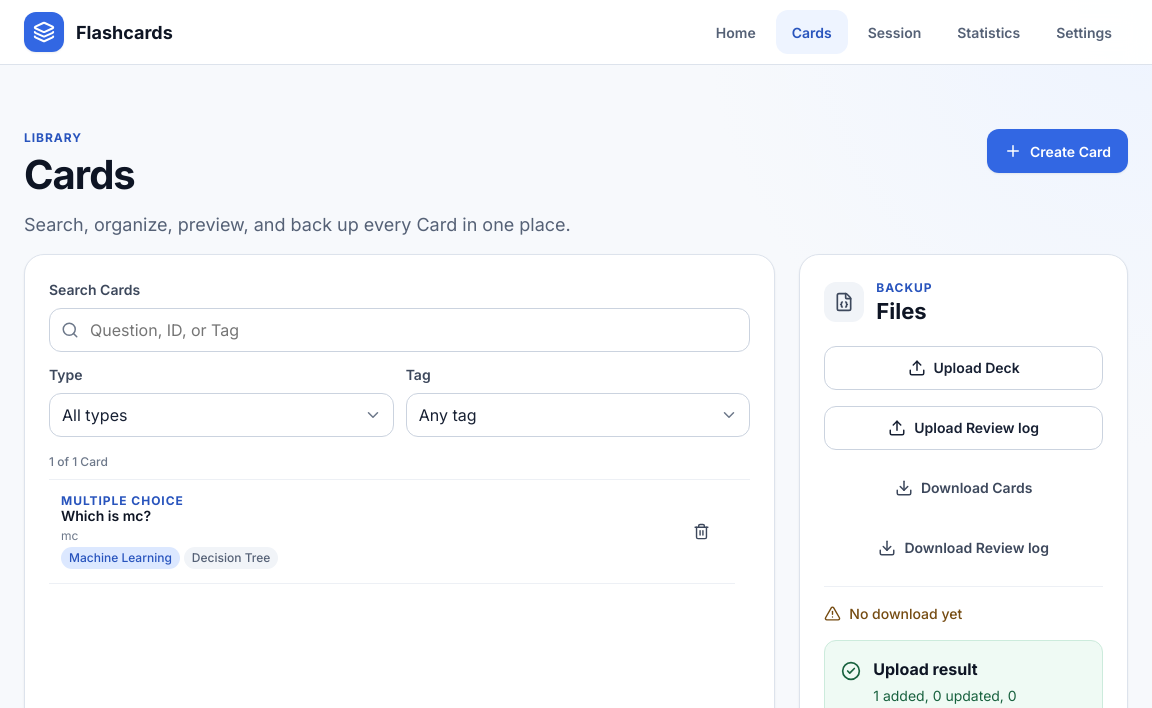
it: shows right or wrong after a click on an option (multiple_choice, wrong)
Earlier steps of the test are not shown.
Later steps or results of the test are not shown.
Click the button "Home": click(736, 32) [700,10,772,54]
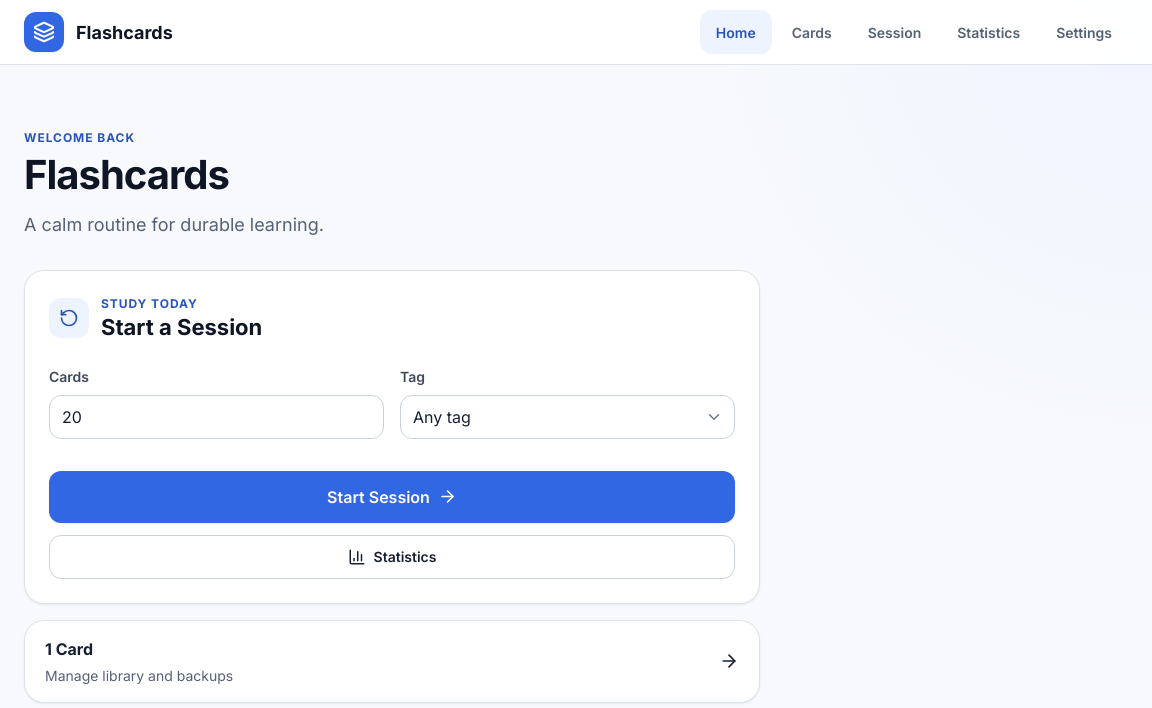
Click the button "Start Session": click(392, 497) [49,471,735,523]
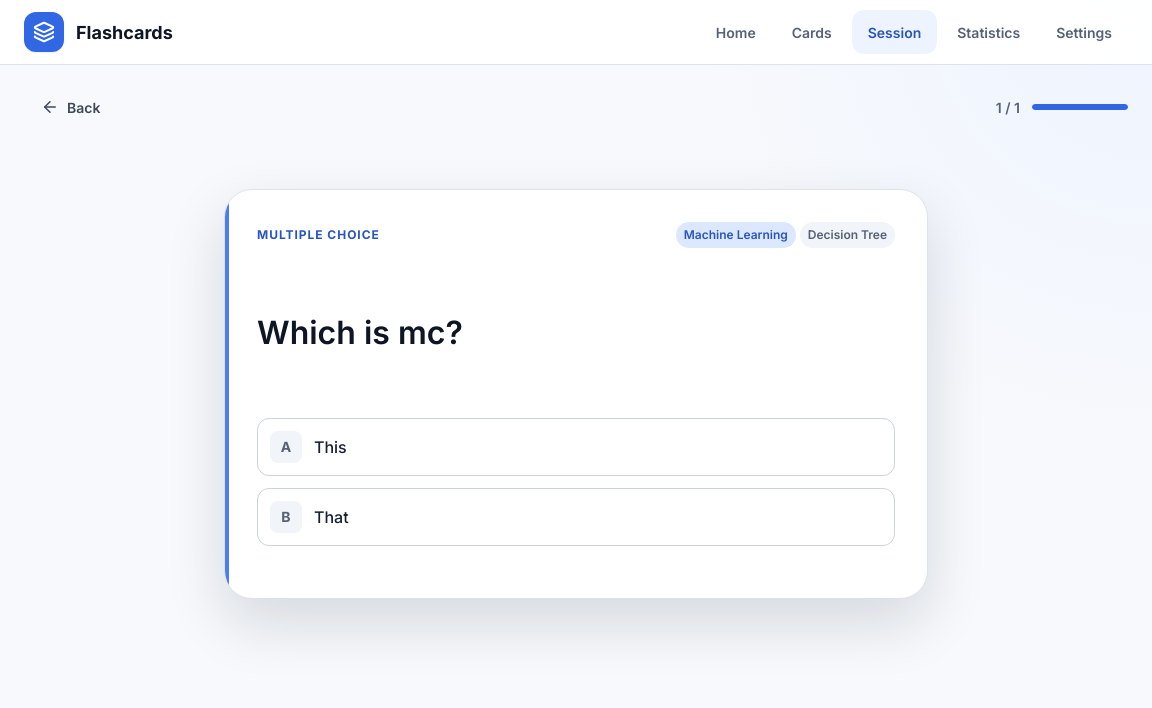
Check: the text "This one." is not shown
Check: the heading "Which is mc?" is shown, box [257,313,463,352]
Click the button "B That": click(286, 517) [257,488,895,546]
(page scrolled)
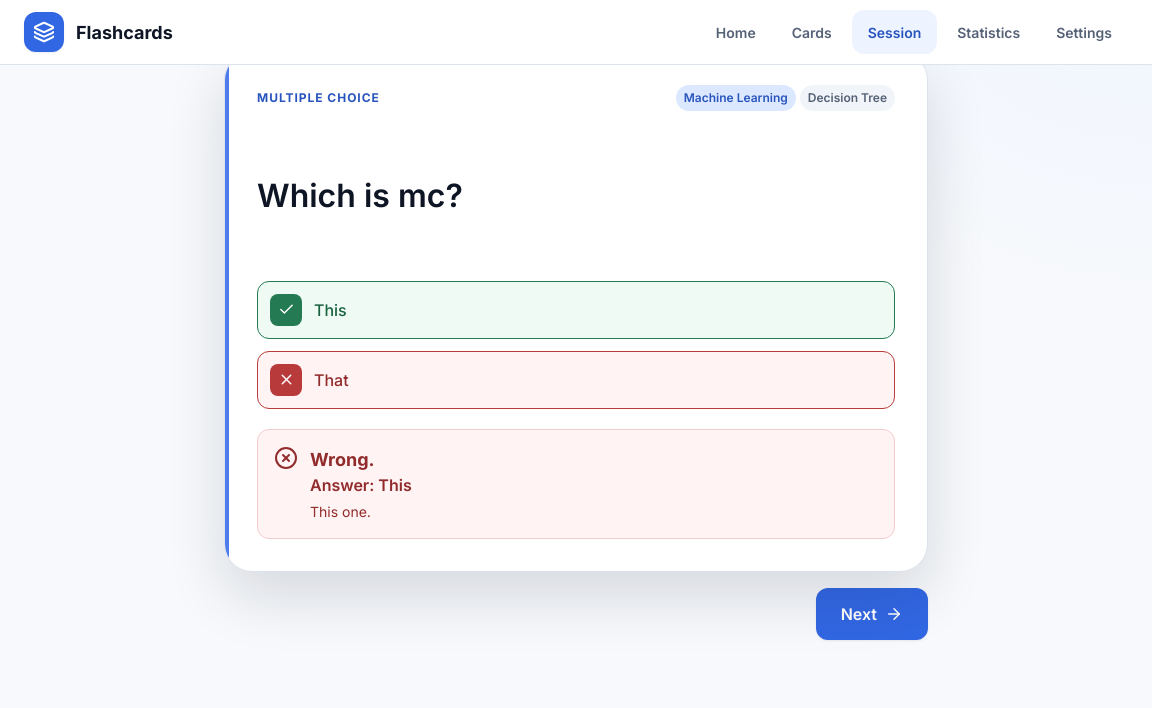
Check: the text "Wrong." is shown, box [310,449,375,470]
Check: the text "This one." is shown, box [310,503,371,520]
Check: the button "This" is disabled, box [257,281,895,339]
